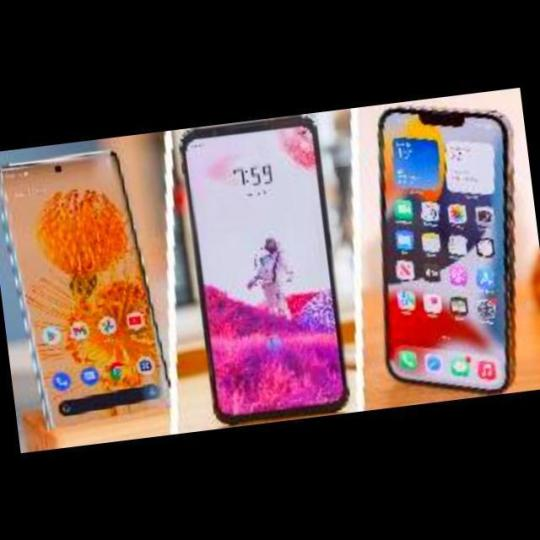phone: (179, 113, 354, 415), (0, 139, 176, 431), (372, 104, 520, 395)
